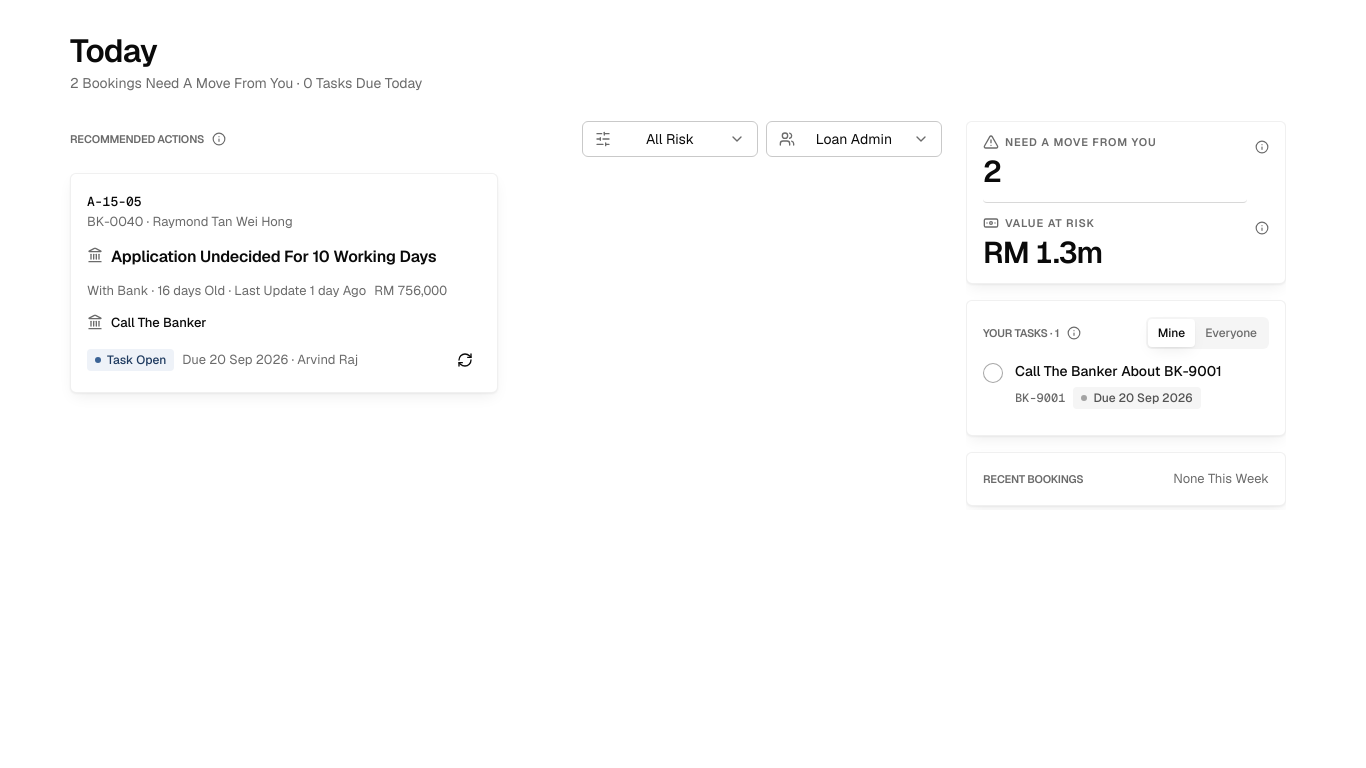
ChasePage › Your Tasks › opens Loan Admin on their own tasks and widens to every owner
Check: the link "Call The Banker About BK-9001" is shown, box [1015,361,1222,381]
Check: the text "Call The Banker About BK-0040" is not shown
Click the button "Everyone".
click(1231, 333)  # box [1195,319,1267,347]
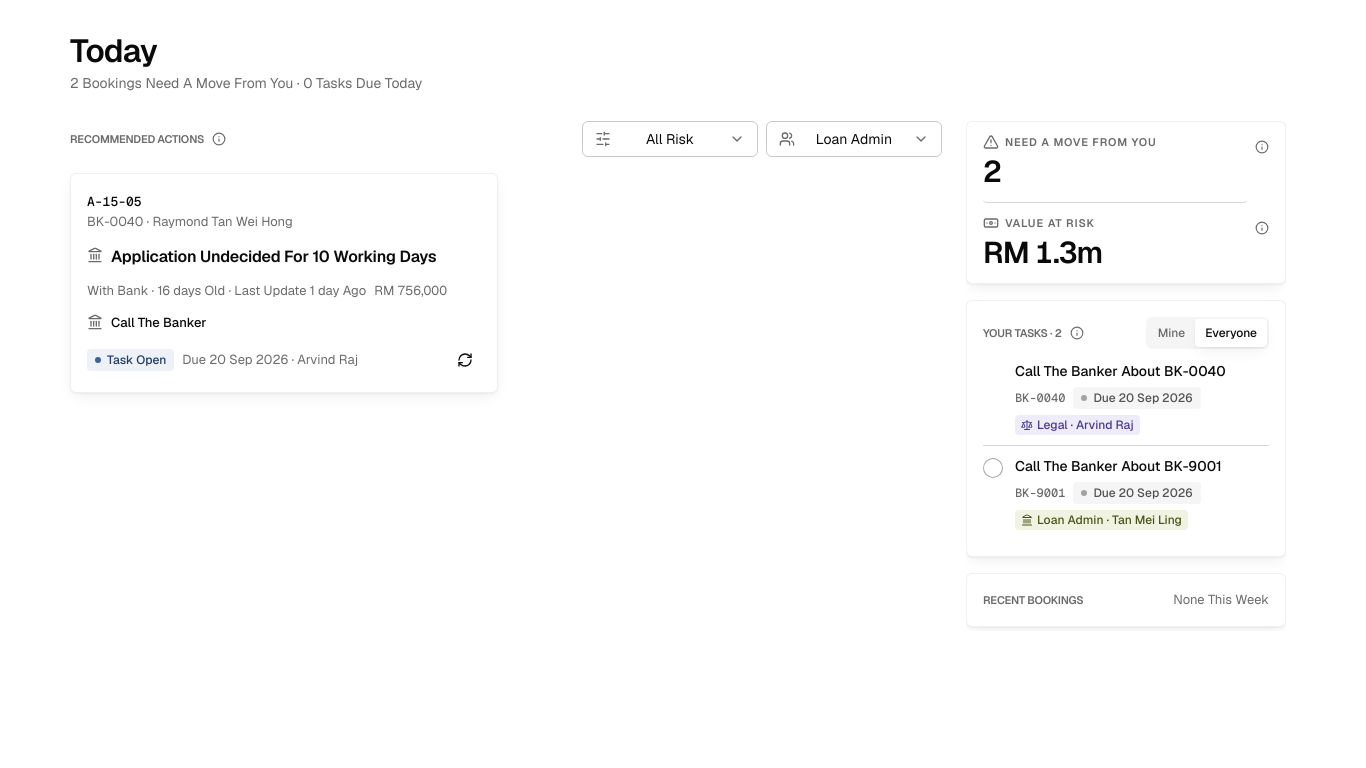
Check: the link "Call The Banker About BK-0040" is shown, box [1015,361,1226,381]
